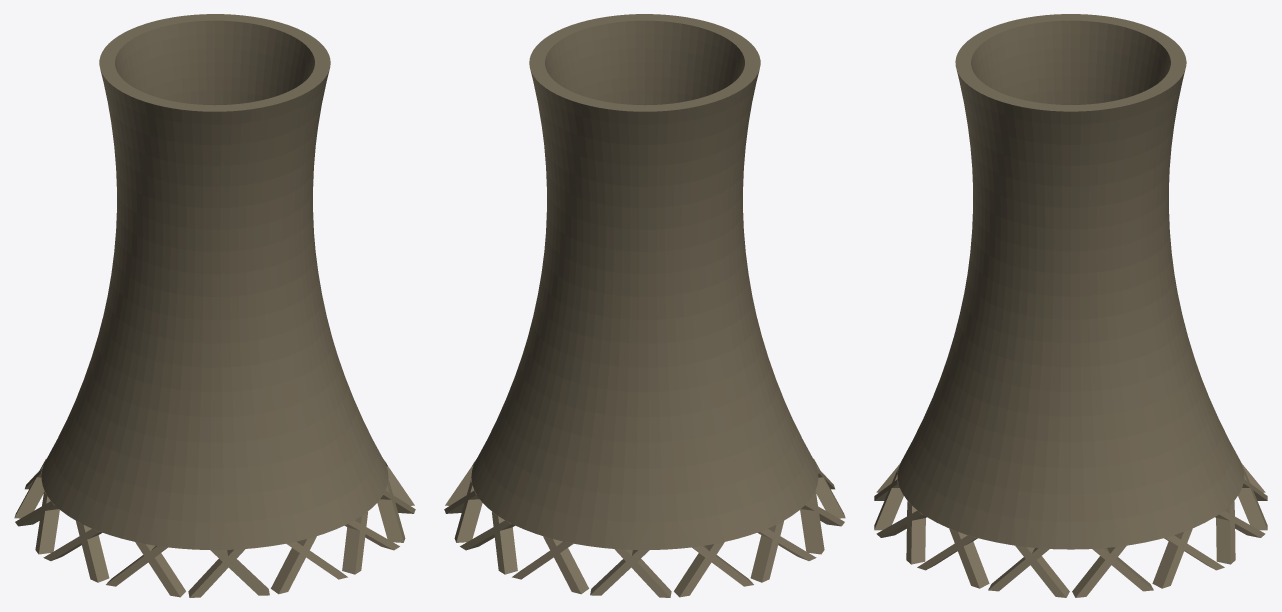
The model's file is tour_de_refroidissement.fbx.
The picture shows the model from 3 angles, left to right: view 1: azimuth 30°, elevation 25°; view 2: azimuth 150°, elevation 25°; view 3: azimuth 270°, elevation 25°; orthographic projection.
Visible parts, largest first — view 1: tour_de_refroidissement; view 2: tour_de_refroidissement; view 3: tour_de_refroidissement.
Part boxes in pixels (box(x1,y1,x2,y2)): tour_de_refroidissement: box(14, 14, 415, 597); tour_de_refroidissement: box(444, 14, 845, 597); tour_de_refroidissement: box(874, 14, 1267, 597).
Size of the model in its own units: 13200 by 16337 by 12935.
